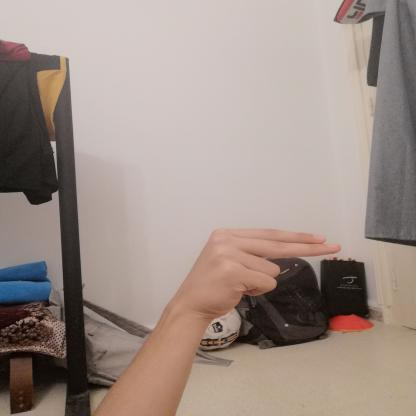AYN: (155, 218, 355, 324)
